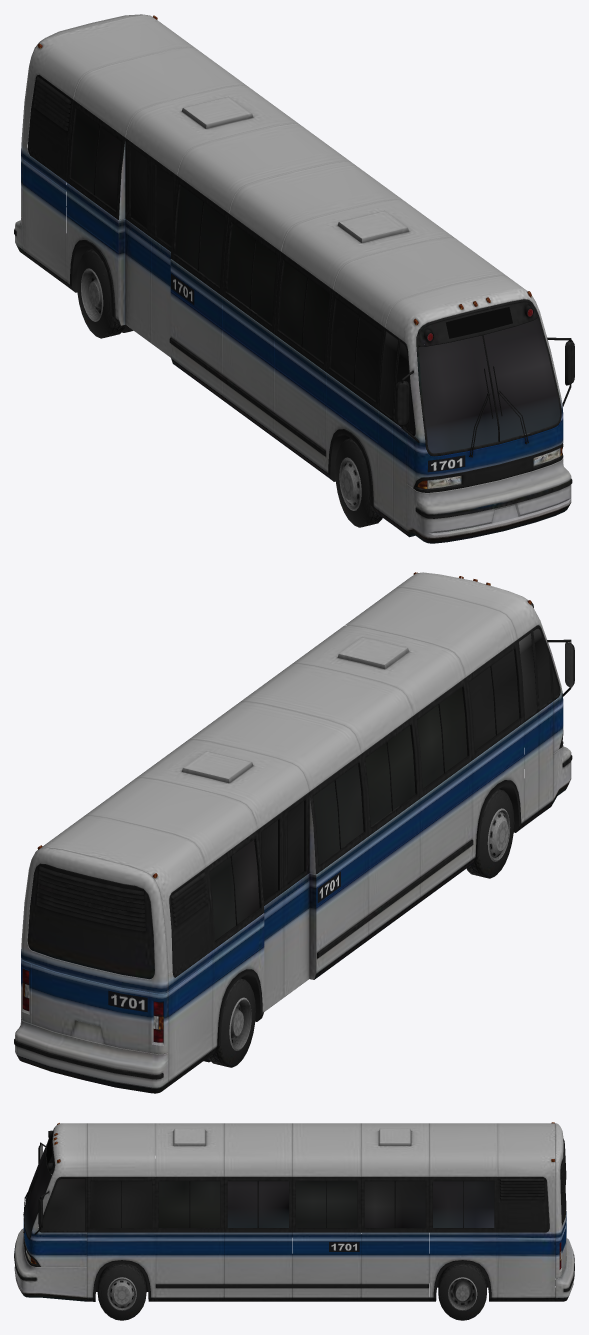
The model's file is bus.glb.
3 renders of one model, top to bottom at view 1: azimuth 30°, elevation 25°; view 2: azimuth 150°, elevation 25°; view 3: azimuth 270°, elevation 25°, orthographic. The views are drawn at different scales.
Visible parts, largest first — view 1: bus; view 2: bus; view 3: bus.
Boxes of the visible parts, <box> form: bus: <box>14,14,574,543</box>; bus: <box>14,572,574,1093</box>; bus: <box>14,1122,574,1320</box>.
Bounding box in the file's own units: 2.26 × 3 × 9.4.
Materials: 1 (1 with a texture image).
